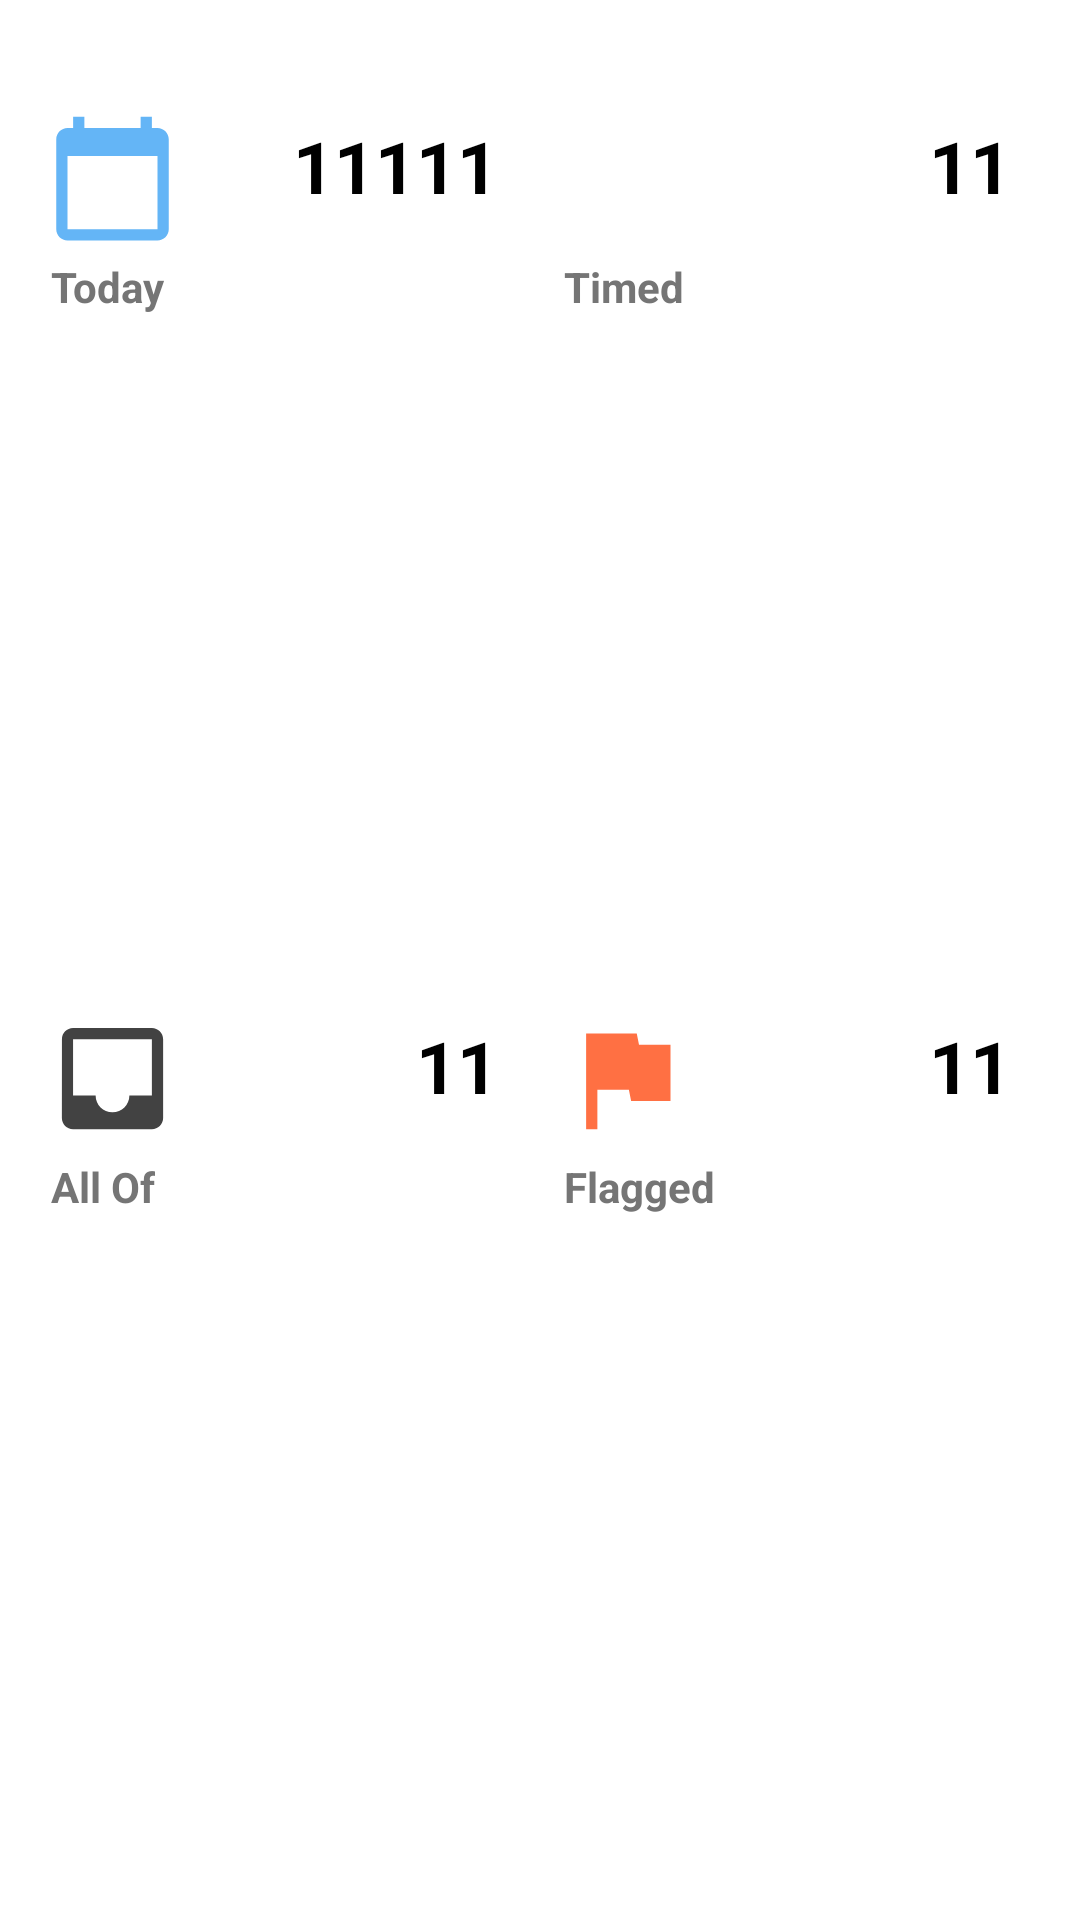

Icon bounding boxes for this 1080w x 1920h phone screenshot, format (x1, y1, x2, y2):
inbox: (62, 1028, 163, 1130)
